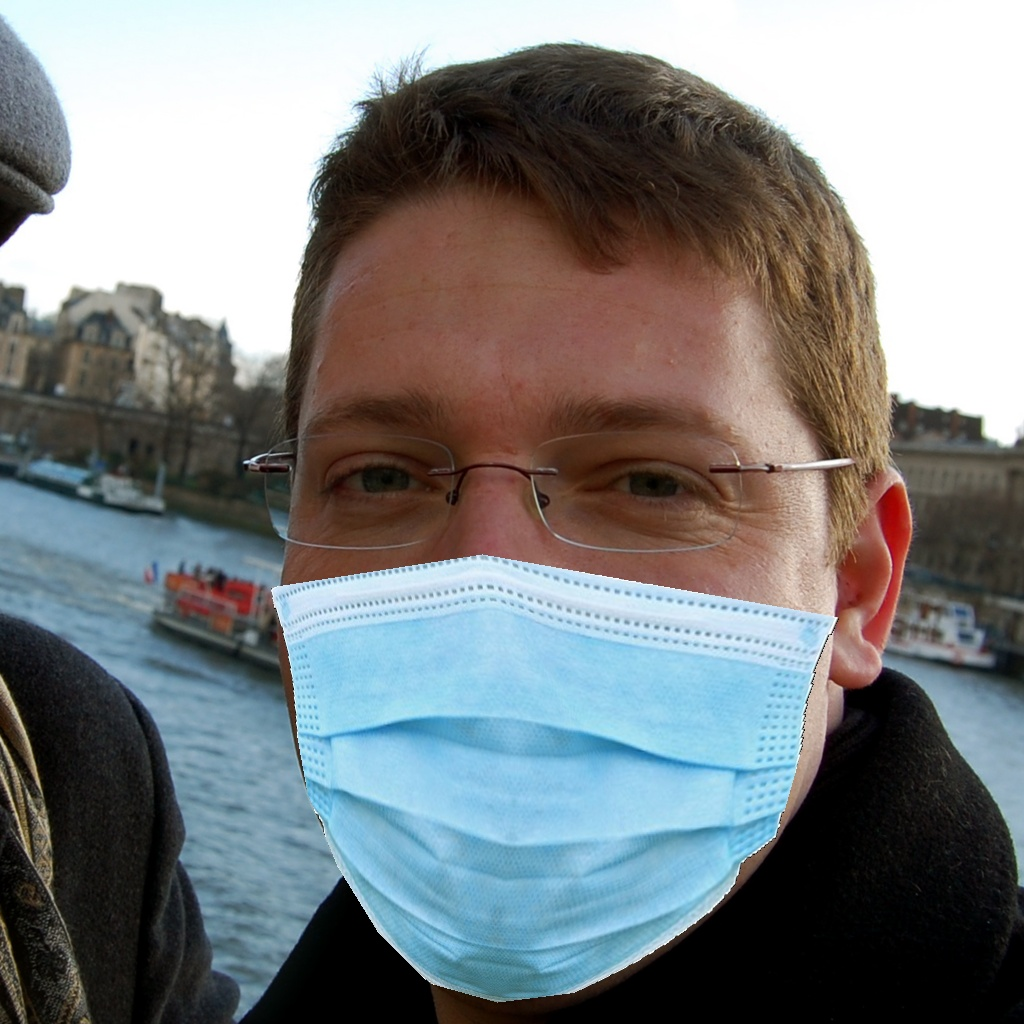Mask: (267, 348, 848, 1003)
